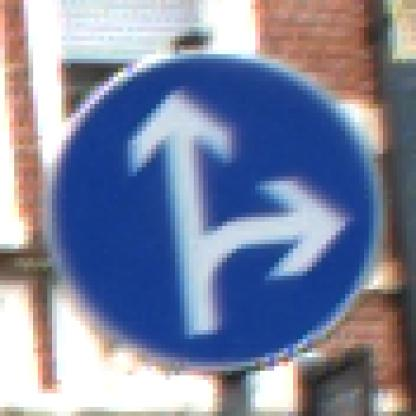Straight or Right: (34, 42, 384, 381)
